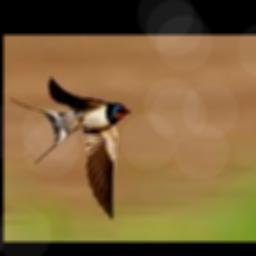Swallow: (10, 77, 132, 220)
